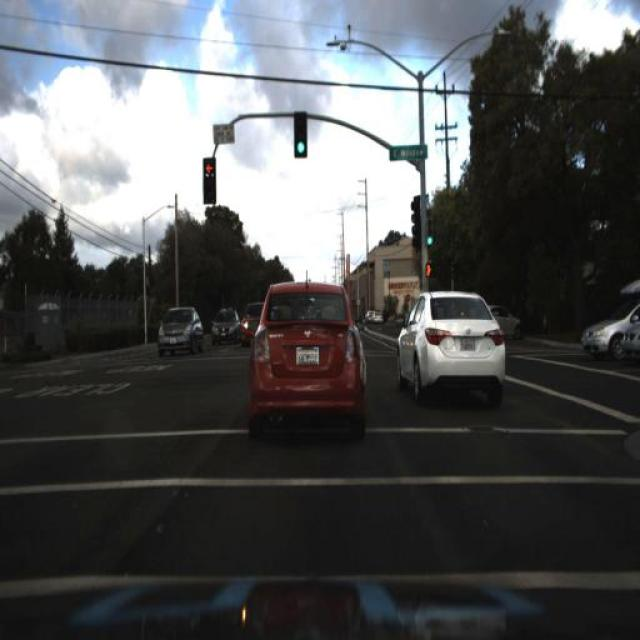car: (248, 276, 368, 456), (392, 287, 507, 408), (582, 309, 639, 367), (154, 300, 203, 359), (240, 288, 275, 348), (470, 302, 526, 339), (206, 303, 239, 353)
trafficLight-Green: (292, 110, 309, 160), (424, 215, 436, 249)
trafficLight-Yellow: (202, 156, 216, 204)
